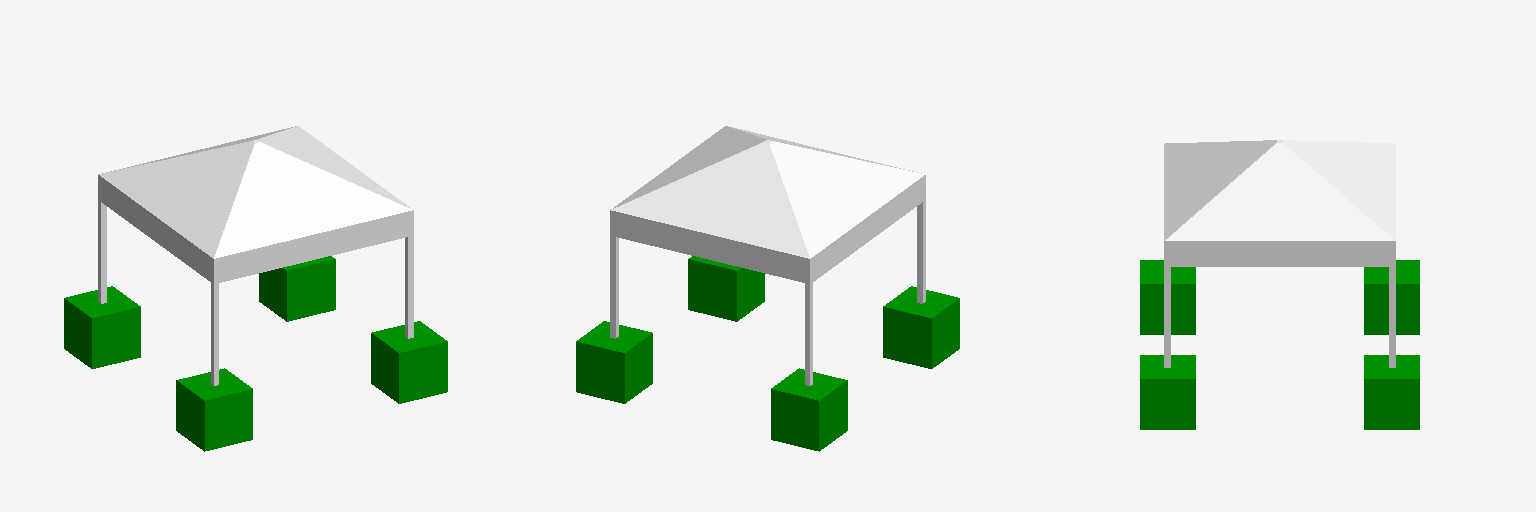
The model's file is TeamTentWh2.obj.
3 views of the same model, side by side, from view 1: azimuth 30°, elevation 25°; view 2: azimuth 150°, elevation 25°; view 3: azimuth 270°, elevation 25° (orthographic).
Visible parts, largest first — view 1: Cube; view 2: Cube; view 3: Cube.
Boxes of the visible parts, x1=… form: Cube: x1=64, y1=126, x2=447, y2=451; Cube: x1=576, y1=126, x2=959, y2=451; Cube: x1=1140, y1=140, x2=1419, y2=429.
Size of the model in its own units: 10 by 9 by 10.